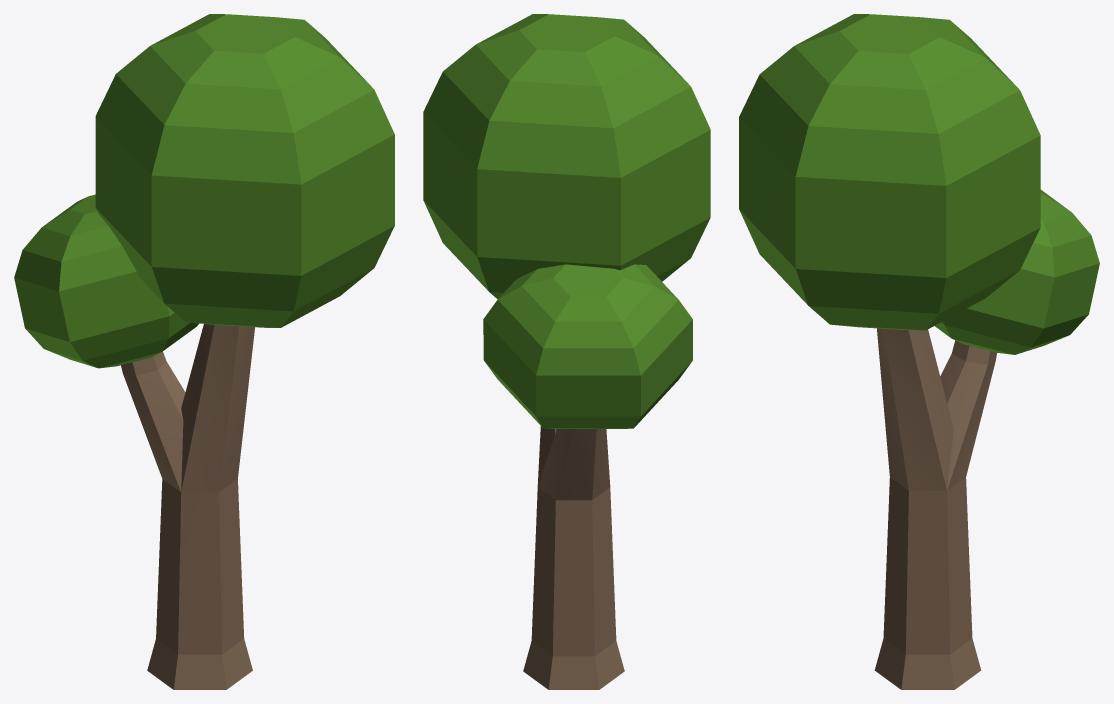
The model's file is Tree3.fbx.
3 renders of one model, left to right at view 1: azimuth 30°, elevation 25°; view 2: azimuth 150°, elevation 25°; view 3: azimuth 270°, elevation 25°, orthographic. The views are drawn at different scales.
Parts seen in each view (by area): view 1: mergedBlocks; view 2: mergedBlocks; view 3: mergedBlocks.
Boxes of the visible parts, box(x1,y1,x2,y2) form: mergedBlocks: box(14, 14, 394, 689); mergedBlocks: box(423, 14, 710, 689); mergedBlocks: box(739, 14, 1099, 689).
Bounding box in the file's own units: 21.4 × 47 × 23.68.
